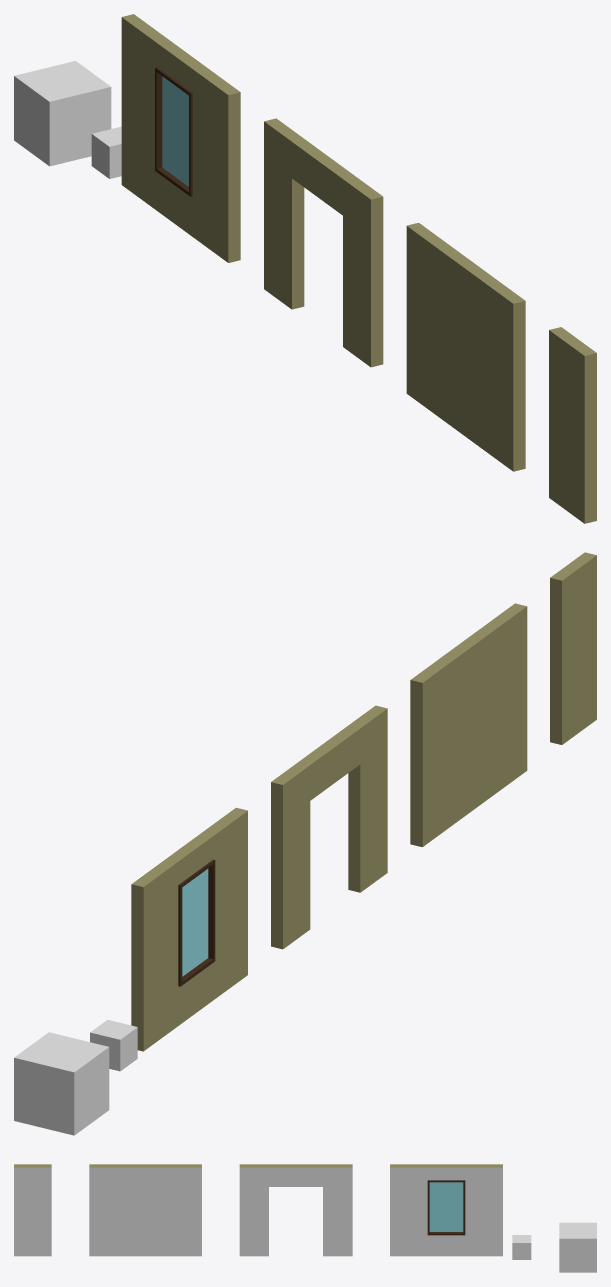
Rendered from ModularHouse2 1.fbx.
The picture shows the model from 3 angles, top to bottom: view 1: azimuth 30°, elevation 25°; view 2: azimuth 150°, elevation 25°; view 3: azimuth 270°, elevation 25°; orthographic projection. The views are drawn at different scales.
Parts seen in each view (by area): view 1: Wall.002, Cube, Doorway, ShortWall.003, BaseCub.001, Window, BaseCub; view 2: Wall.002, Cube, Doorway, BaseCub.001, ShortWall.003, Window, BaseCub; view 3: Wall.002, Cube, Doorway, ShortWall.003, Window, BaseCub.001, BaseCub.
Part boxes in pixels (x1,y1,x2,y2): Wall.002: [406, 222, 525, 471]; Cube: [121, 14, 240, 262]; Doorway: [264, 118, 383, 367]; ShortWall.003: [549, 327, 596, 523]; BaseCub.001: [14, 61, 111, 166]; Window: [155, 67, 192, 196]; BaseCub: [91, 126, 121, 178]; Wall.002: [410, 603, 527, 847]; Cube: [131, 807, 247, 1051]; Doorway: [271, 705, 387, 949]; BaseCub.001: [14, 1032, 109, 1135]; ShortWall.003: [550, 552, 596, 744]; Window: [178, 859, 215, 986]; BaseCub: [90, 1019, 137, 1071]; Wall.002: [89, 1164, 201, 1256]; Cube: [390, 1164, 502, 1256]; Doorway: [239, 1164, 352, 1256]; ShortWall.003: [14, 1164, 51, 1256]; Window: [427, 1180, 465, 1235]; BaseCub.001: [559, 1222, 596, 1272]; BaseCub: [512, 1235, 531, 1259].
Bounding box in the file's own units: 2 × 31 × 5.7.
